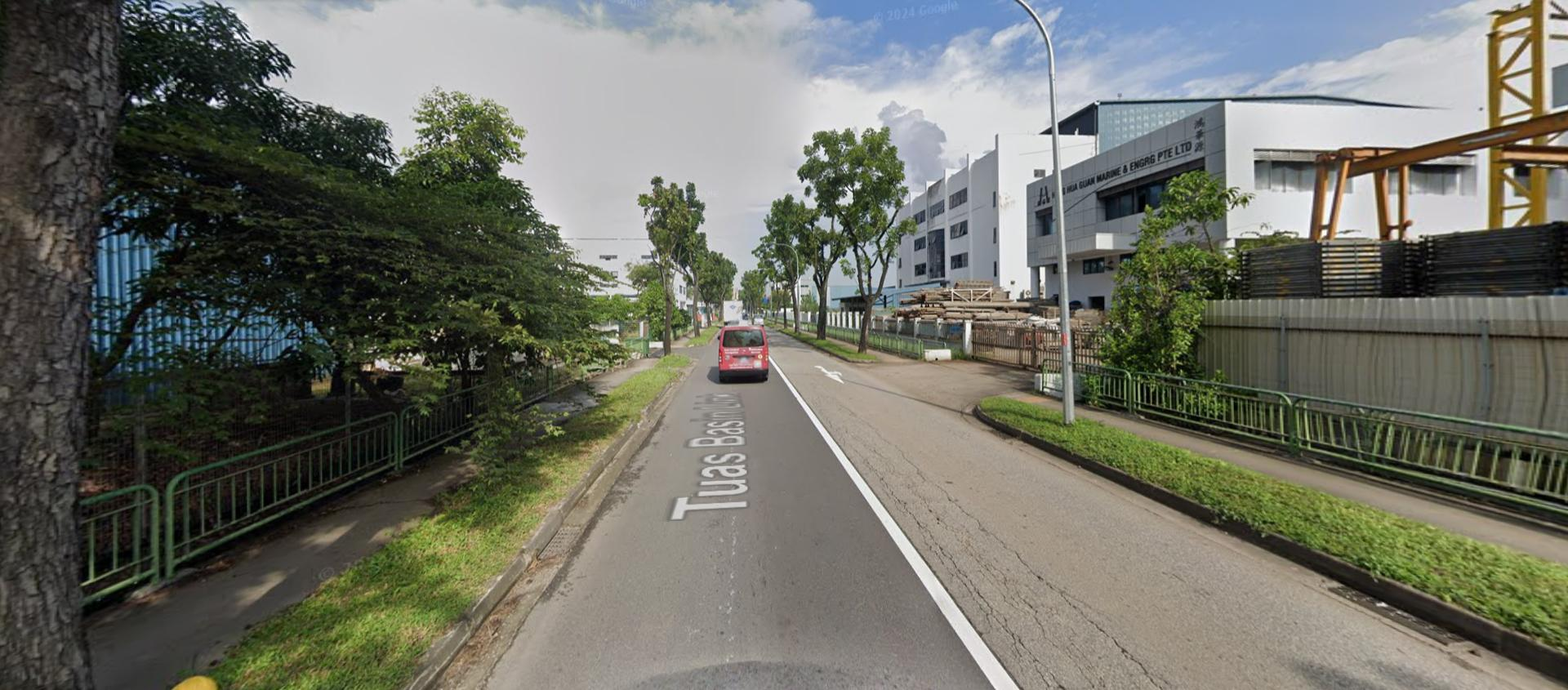normal: (537, 525, 586, 560)
